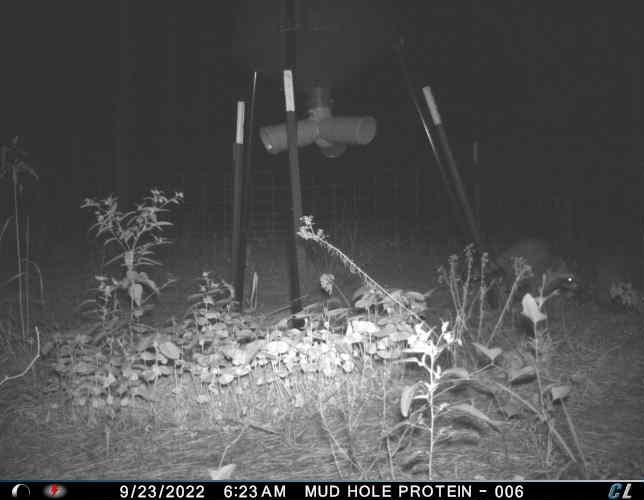Raccoon: (472, 238, 588, 312)
